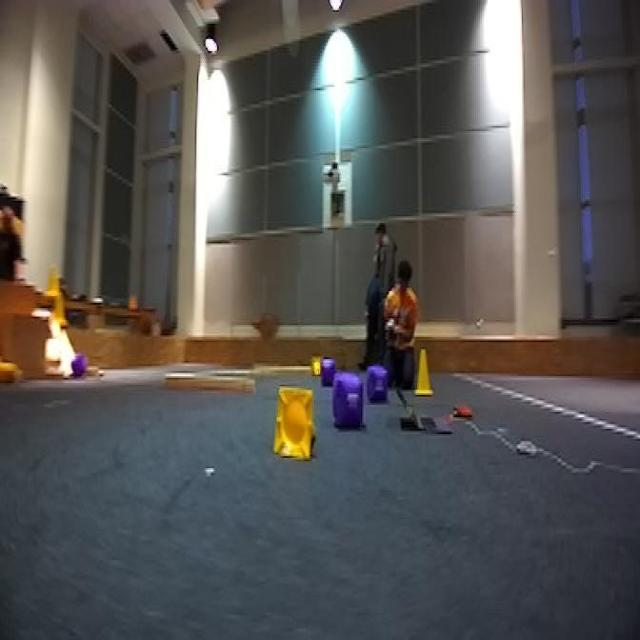frc_cone: (273, 383, 325, 468), (412, 347, 436, 397), (42, 262, 60, 303), (0, 356, 22, 386), (52, 291, 66, 332), (308, 356, 321, 376)
frc_cube: (335, 373, 366, 427), (364, 363, 390, 398), (70, 356, 86, 383), (318, 356, 334, 374)
